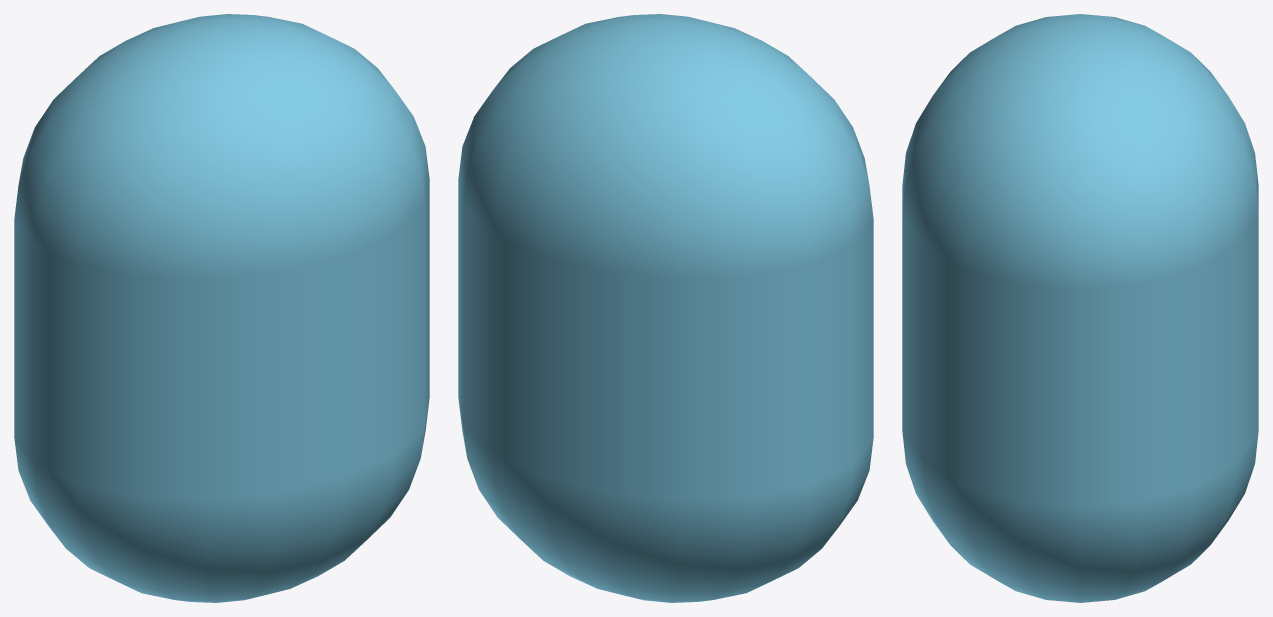
Rendered from torso_casual.glb.
The picture shows the model from 3 angles, left to right: view 1: azimuth 30°, elevation 25°; view 2: azimuth 150°, elevation 25°; view 3: azimuth 270°, elevation 25°; orthographic projection.
Visible parts, largest first — view 1: Torso; view 2: Torso; view 3: Torso.
Boxes of the visible parts, <box> form: Torso: <box>14,14,429,602</box>; Torso: <box>458,14,873,602</box>; Torso: <box>902,14,1258,602</box>.
Size of the model in its own units: 12.86 by 18.1 by 10.73.
